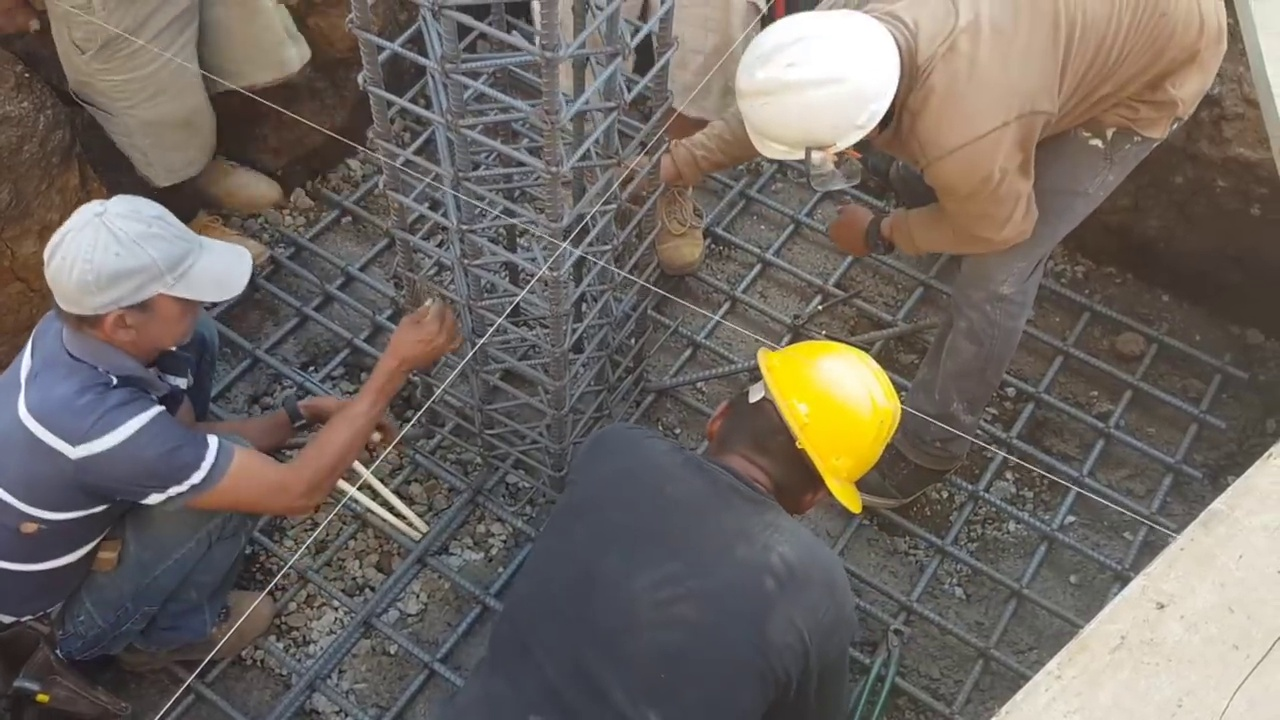helmet: (738, 8, 901, 171), (751, 354, 897, 513)
helmet-off: (56, 186, 248, 373)
helmet-on: (692, 339, 902, 524), (739, 10, 942, 163)
person: (0, 178, 471, 668), (706, 0, 1206, 447), (439, 352, 887, 708), (0, 0, 373, 267), (542, 0, 743, 275)
